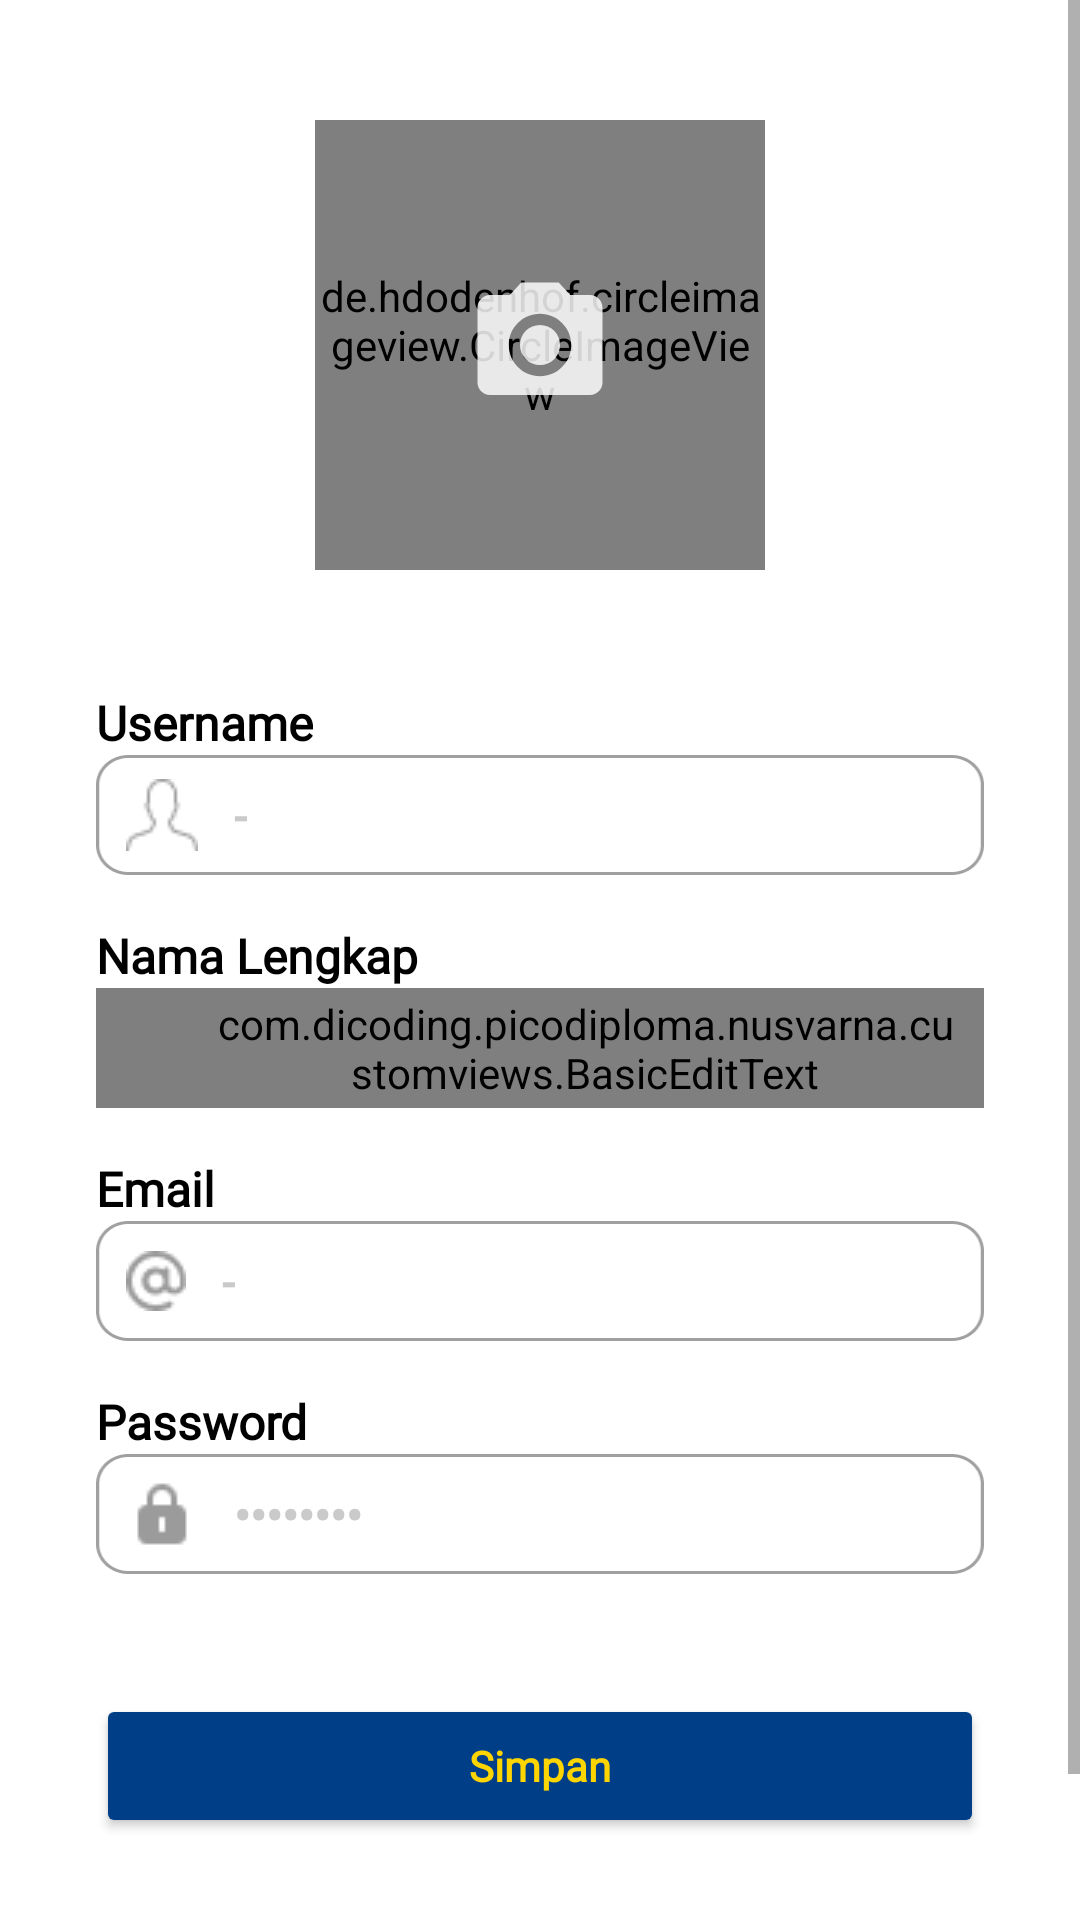

Where to tap for icons on this 1080×1920 app screen, as point (x, y):
orang: point (162, 815)
